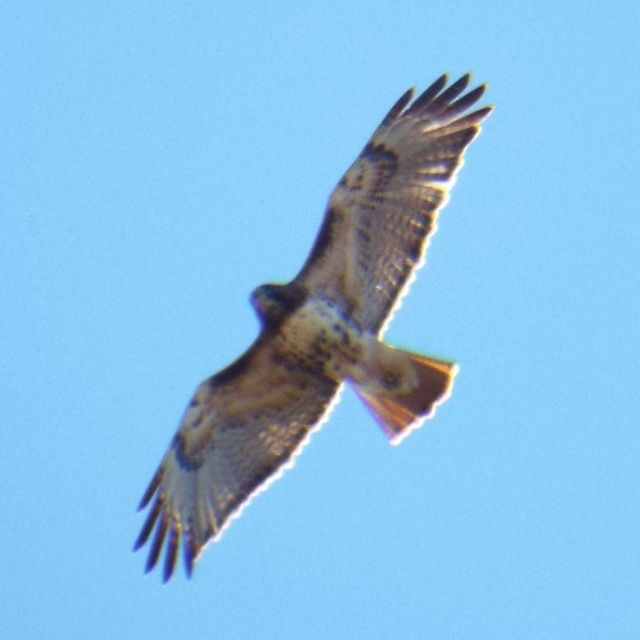Eagle: (123, 69, 499, 582)
